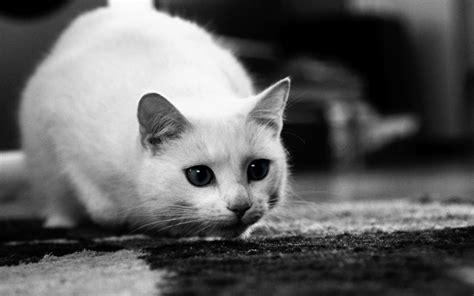cat: (21, 6, 291, 237)
